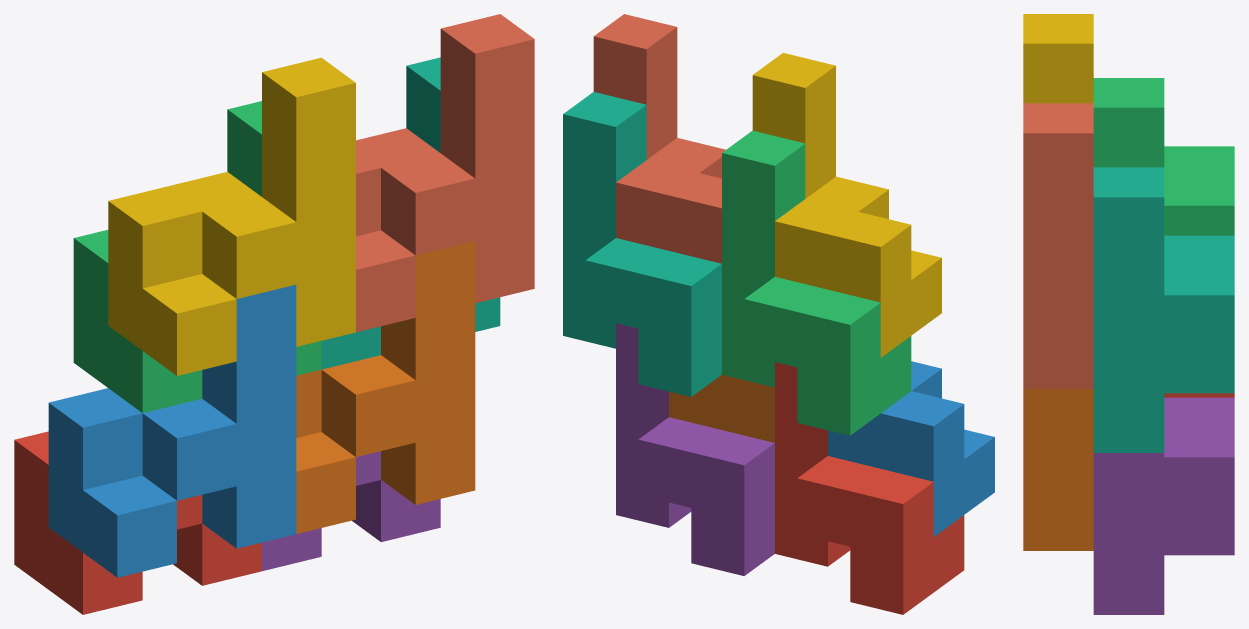
Rendered from tiling.obj.
3 renders of one model, left to right at view 1: azimuth 30°, elevation 25°; view 2: azimuth 150°, elevation 25°; view 3: azimuth 270°, elevation 25°, orthographic. The views are drawn at different scales.
Parts seen in each view (by area): view 1: copy_1_domain_4, copy_1_domain_2, copy_1_domain_8, copy_1_domain_6, copy_1_domain_1, copy_1_domain_3, copy_1_domain_5, copy_1_domain_7; view 2: copy_1_domain_3, copy_1_domain_7, copy_1_domain_4, copy_1_domain_1, copy_1_domain_5, copy_1_domain_8, copy_1_domain_2, copy_1_domain_6; view 3: copy_1_domain_7, copy_1_domain_5, copy_1_domain_8, copy_1_domain_3, copy_1_domain_6, copy_1_domain_4, copy_1_domain_1.
Part boxes in pixels (bbox=[...]): copy_1_domain_4: bbox=[108, 57, 355, 375]; copy_1_domain_2: bbox=[48, 284, 296, 577]; copy_1_domain_8: bbox=[356, 14, 534, 332]; copy_1_domain_6: bbox=[296, 241, 475, 533]; copy_1_domain_1: bbox=[14, 431, 261, 614]; copy_1_domain_3: bbox=[73, 101, 321, 412]; copy_1_domain_5: bbox=[262, 451, 440, 571]; copy_1_domain_7: bbox=[321, 57, 500, 369]; copy_1_domain_3: bbox=[722, 130, 911, 435]; copy_1_domain_7: bbox=[563, 92, 721, 396]; copy_1_domain_4: bbox=[752, 53, 941, 357]; copy_1_domain_1: bbox=[775, 362, 964, 614]; copy_1_domain_5: bbox=[616, 323, 774, 575]; copy_1_domain_8: bbox=[593, 14, 725, 263]; copy_1_domain_2: bbox=[828, 361, 994, 536]; copy_1_domain_6: bbox=[669, 374, 774, 442]; copy_1_domain_7: bbox=[1093, 167, 1234, 452]; copy_1_domain_5: bbox=[1093, 397, 1234, 614]; copy_1_domain_8: bbox=[1023, 103, 1093, 388]; copy_1_domain_3: bbox=[1093, 78, 1234, 235]; copy_1_domain_6: bbox=[1023, 389, 1093, 550]; copy_1_domain_4: bbox=[1023, 14, 1093, 103]; copy_1_domain_1: bbox=[1164, 393, 1234, 397].
Bounding box in the file's own units: 7 × 8 × 3.
